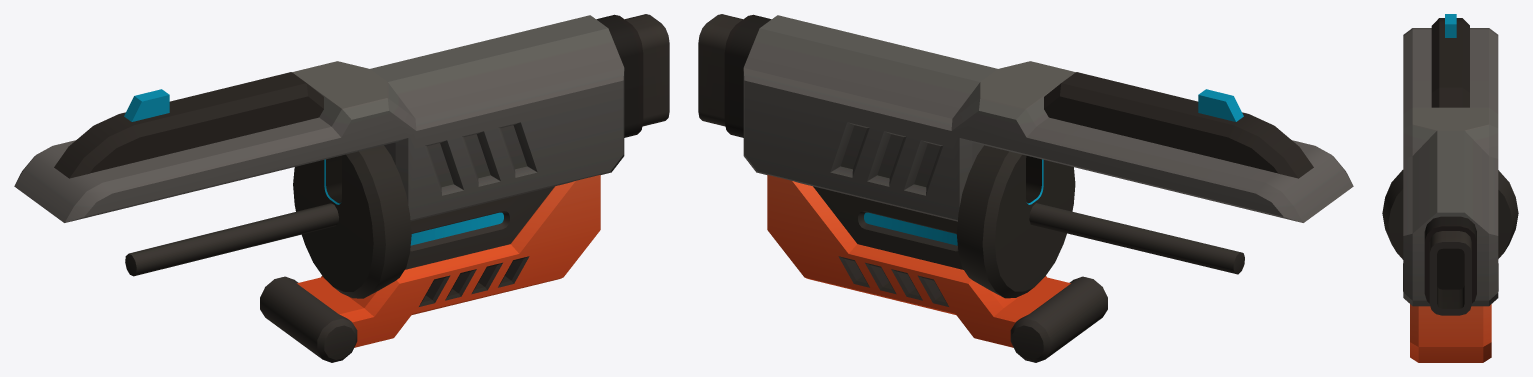
Rendered from Pistol4_Barrel.fbx.
3 views of the same model, side by side, from view 1: azimuth 30°, elevation 25°; view 2: azimuth 150°, elevation 25°; view 3: azimuth 270°, elevation 25° (orthographic). The views are drawn at different scales.
Parts seen in each view (by area): view 1: Pistol4_Barrel; view 2: Pistol4_Barrel; view 3: Pistol4_Barrel.
Boxes of the visible parts, x1=… form: Pistol4_Barrel: x1=14, y1=14, x2=669, y2=362; Pistol4_Barrel: x1=698, y1=14, x2=1353, y2=362; Pistol4_Barrel: x1=1382, y1=14, x2=1518, y2=362.
Bounding box in the file's own units: 22.43 × 9.86 × 5.64.
